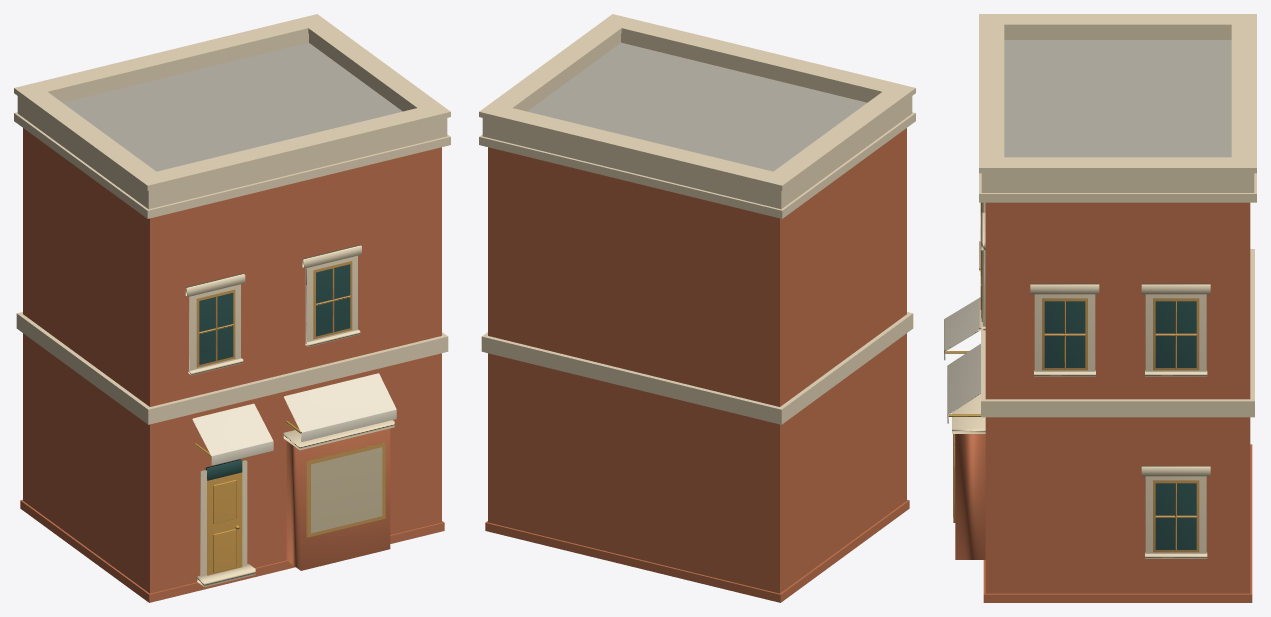
File: building_rowhouse_terracotta.glb
3 views of the same model, side by side, from view 1: azimuth 30°, elevation 25°; view 2: azimuth 150°, elevation 25°; view 3: azimuth 270°, elevation 25° (orthographic). The views are drawn at different scales.
Parts seen in each view (by area): view 1: WallUpper, WallGround, Roof, ParapetCap, Parapet, Band0, Bay, BayGlass, Cornice, AwnB, Plinth, AwnD (+17 smaller); view 2: WallUpper, WallGround, Roof, ParapetCap, Parapet, Band0, Cornice, Plinth; view 3: WallUpper, WallGround, Roof, ParapetCap, Parapet, Band0, Bay, Plinth, Cornice, SG0Glass, SW0Glass, SW1Glass (+12 smaller).
Boxes of the visible parts, bbox=[...] form: WallUpper: bbox=[23, 128, 441, 406]; WallGround: bbox=[23, 333, 441, 593]; Roof: bbox=[63, 42, 402, 171]; ParapetCap: bbox=[14, 14, 450, 190]; Parapet: bbox=[17, 33, 447, 209]; Band0: bbox=[16, 312, 448, 424]; Bay: bbox=[286, 428, 390, 570]; BayGlass: bbox=[311, 447, 382, 533]; Cornice: bbox=[14, 112, 450, 218]; AwnB: bbox=[284, 373, 396, 432]; Plinth: bbox=[20, 499, 444, 602]; AwnD: bbox=[192, 403, 273, 456]; WallUpper: bbox=[488, 128, 906, 406]; WallGround: bbox=[488, 333, 906, 593]; Roof: bbox=[527, 42, 866, 171]; ParapetCap: bbox=[479, 14, 915, 190]; Parapet: bbox=[482, 33, 912, 209]; Band0: bbox=[481, 312, 913, 424]; Cornice: bbox=[479, 112, 915, 218]; Plinth: bbox=[485, 499, 909, 602]; WallUpper: bbox=[985, 202, 1250, 399]; WallGround: bbox=[985, 417, 1250, 593]; Roof: bbox=[1004, 40, 1231, 157]; ParapetCap: bbox=[979, 14, 1256, 173]; Parapet: bbox=[981, 30, 1254, 192]; Band0: bbox=[981, 249, 1254, 417]; Bay: bbox=[955, 434, 985, 559]; Plinth: bbox=[983, 444, 1252, 602]; Cornice: bbox=[979, 173, 1256, 202]; SG0Glass: bbox=[1155, 483, 1196, 549]; SW0Glass: bbox=[1044, 301, 1085, 367]; SW1Glass: bbox=[1155, 301, 1196, 367].
Size of the model in its own units: 5.44 by 7.2 by 4.67.
